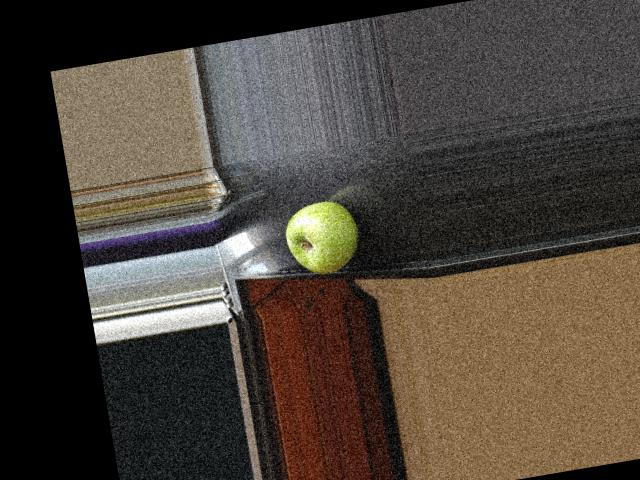apple: (276, 192, 368, 281)
